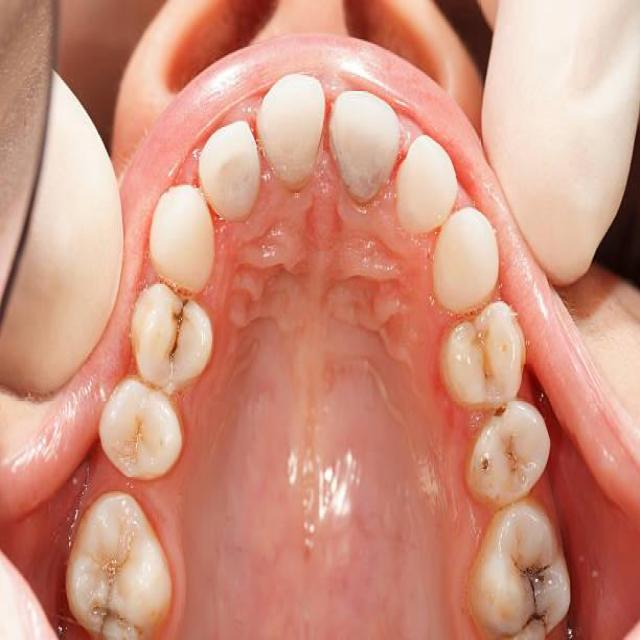caries: (496, 542, 561, 640), (152, 279, 202, 377), (462, 312, 508, 398), (83, 582, 147, 640), (493, 408, 535, 491), (472, 443, 498, 495)
